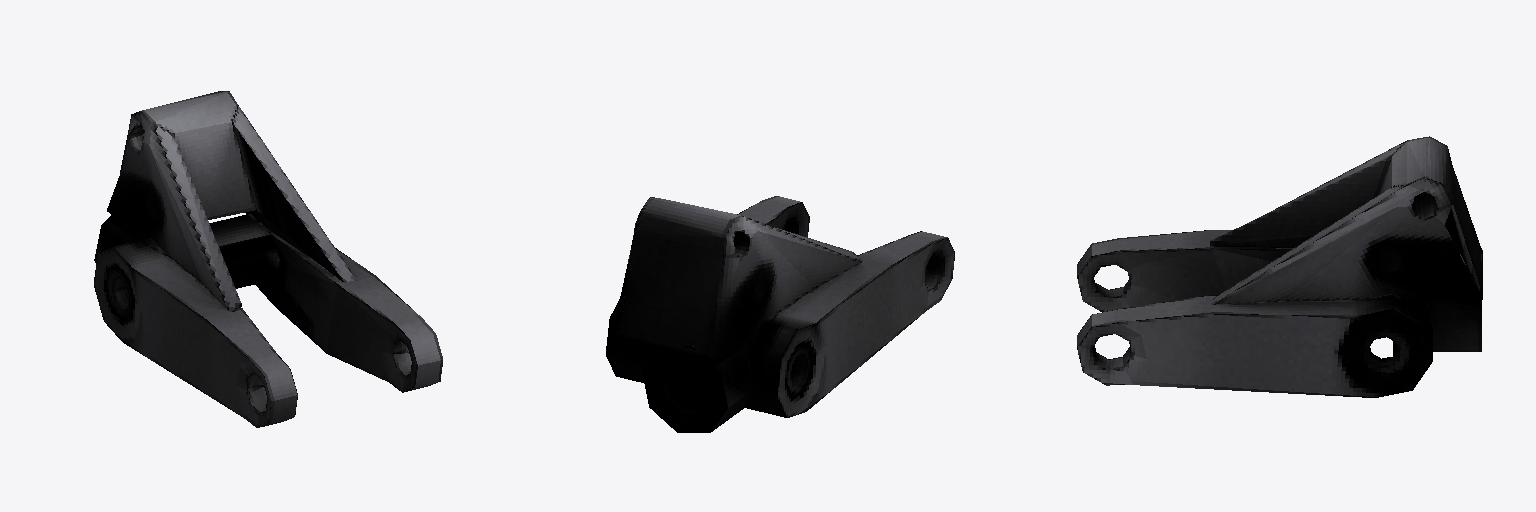
3 renders of one model, left to right at view 1: azimuth 30°, elevation 25°; view 2: azimuth 150°, elevation 25°; view 3: azimuth 270°, elevation 25°, orthographic.
Parts seen in each view (by area): view 1: l_uglut; view 2: l_uglut; view 3: l_uglut.
Boxes of the visible parts, <box> form: l_uglut: <box>94,91,442,427</box>; l_uglut: <box>606,196,954,432</box>; l_uglut: <box>1077,136,1482,397</box>.
Bounding box in the file's own units: 0.0823 × 0.0922 × 0.1684.
1 materials, 1 textured.